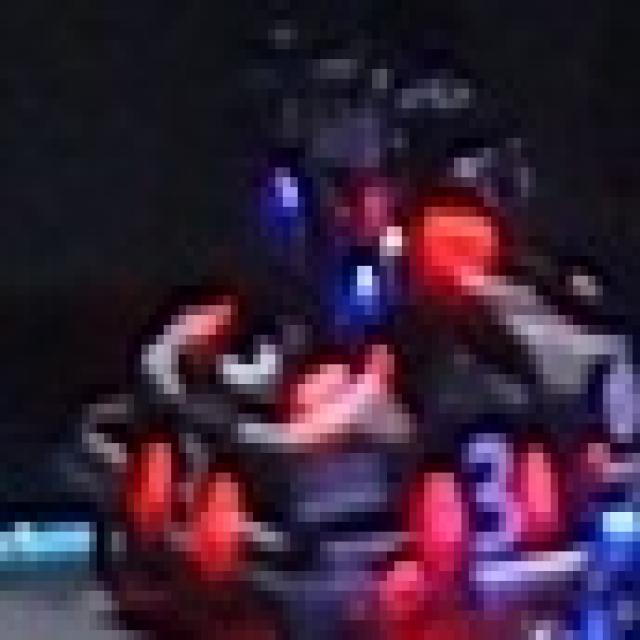R3: (171, 286, 335, 424), (417, 433, 573, 561), (127, 413, 238, 581)
